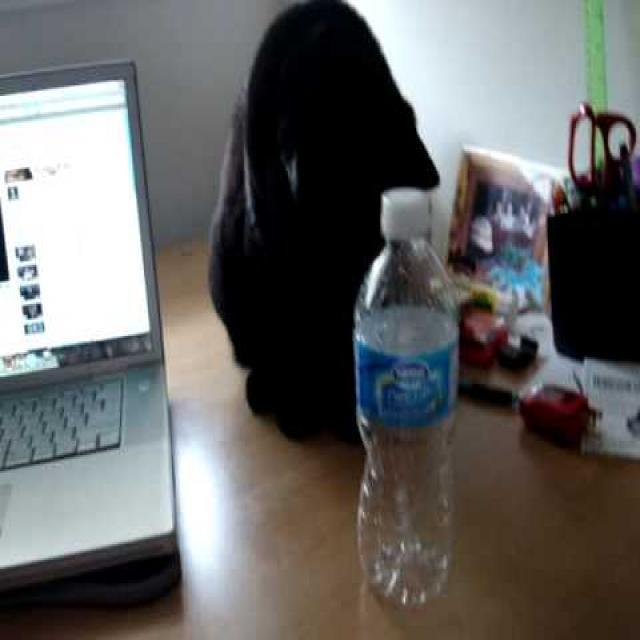plastic_bottle: (353, 188, 470, 608)
